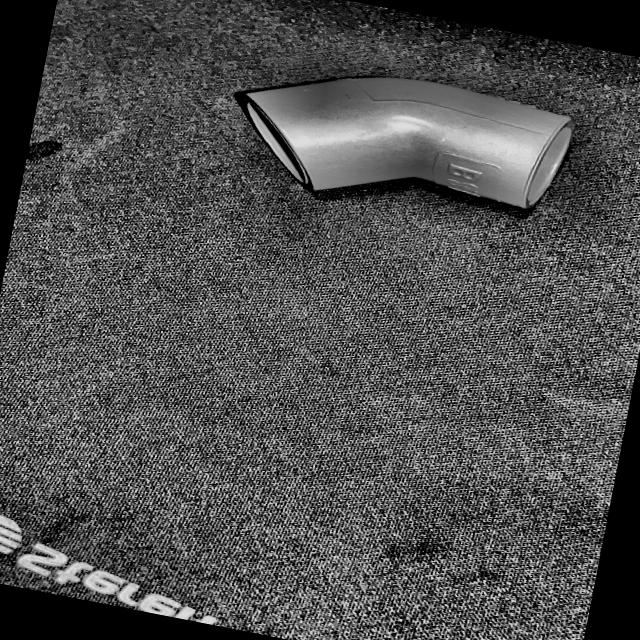ELBOW45: (234, 76, 572, 210)
